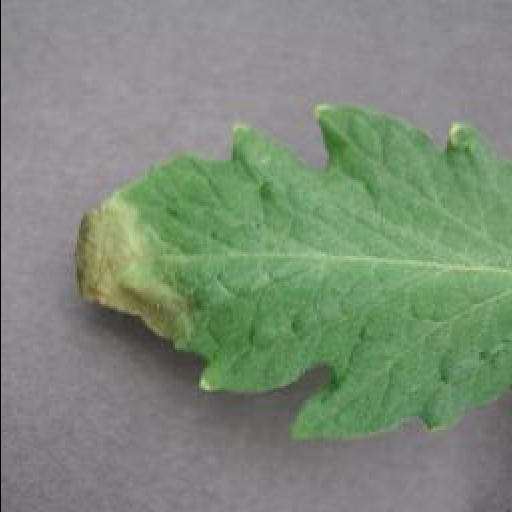disease_tomato: (70, 104, 512, 444)
